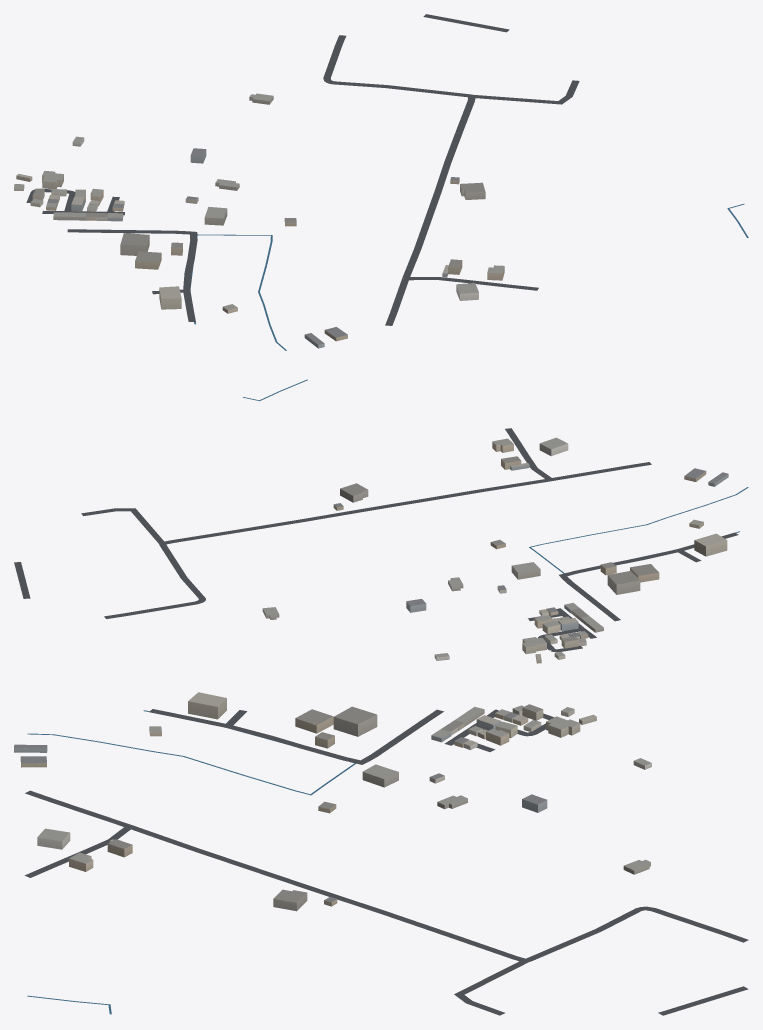
The picture shows the model from 3 angles, top to bottom: view 1: azimuth 30°, elevation 25°; view 2: azimuth 150°, elevation 25°; view 3: azimuth 270°, elevation 25°; orthographic projection. The views are drawn at different scales.
Visible parts, largest first — view 1: roads, buildings_roofs, buildings_walls; view 2: roads, buildings_walls, buildings_roofs, water; view 3: roads, buildings_walls, buildings_roofs, water.
Boxes of the visible parts, left/top/right/bottom form: roads: left=26, top=14, right=579, bottom=325; buildings_roofs: left=14, top=93, right=504, bottom=344; buildings_walls: left=14, top=96, right=504, bottom=348; roads: left=14, top=428, right=738, bottom=652; buildings_walls: left=262, top=442, right=728, bottom=663; buildings_roofs: left=263, top=437, right=728, bottom=659; water: left=243, top=379, right=748, bottom=573; roads: left=24, top=709, right=748, bottom=1015; buildings_walls: left=14, top=698, right=651, bottom=911; buildings_roofs: left=14, top=692, right=651, bottom=902; water: left=27, top=710, right=355, bottom=1014.
Bounding box in the file's own units: 512 × 9.59 × 511.
